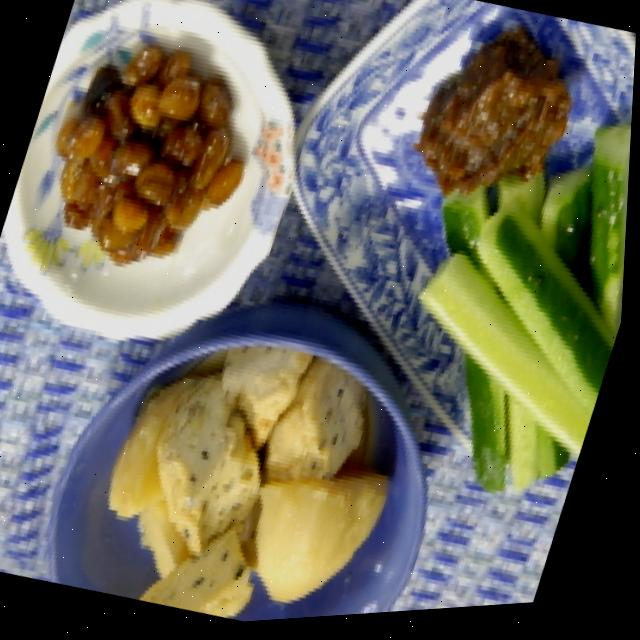熟制海鲜: (41, 302, 465, 636)
